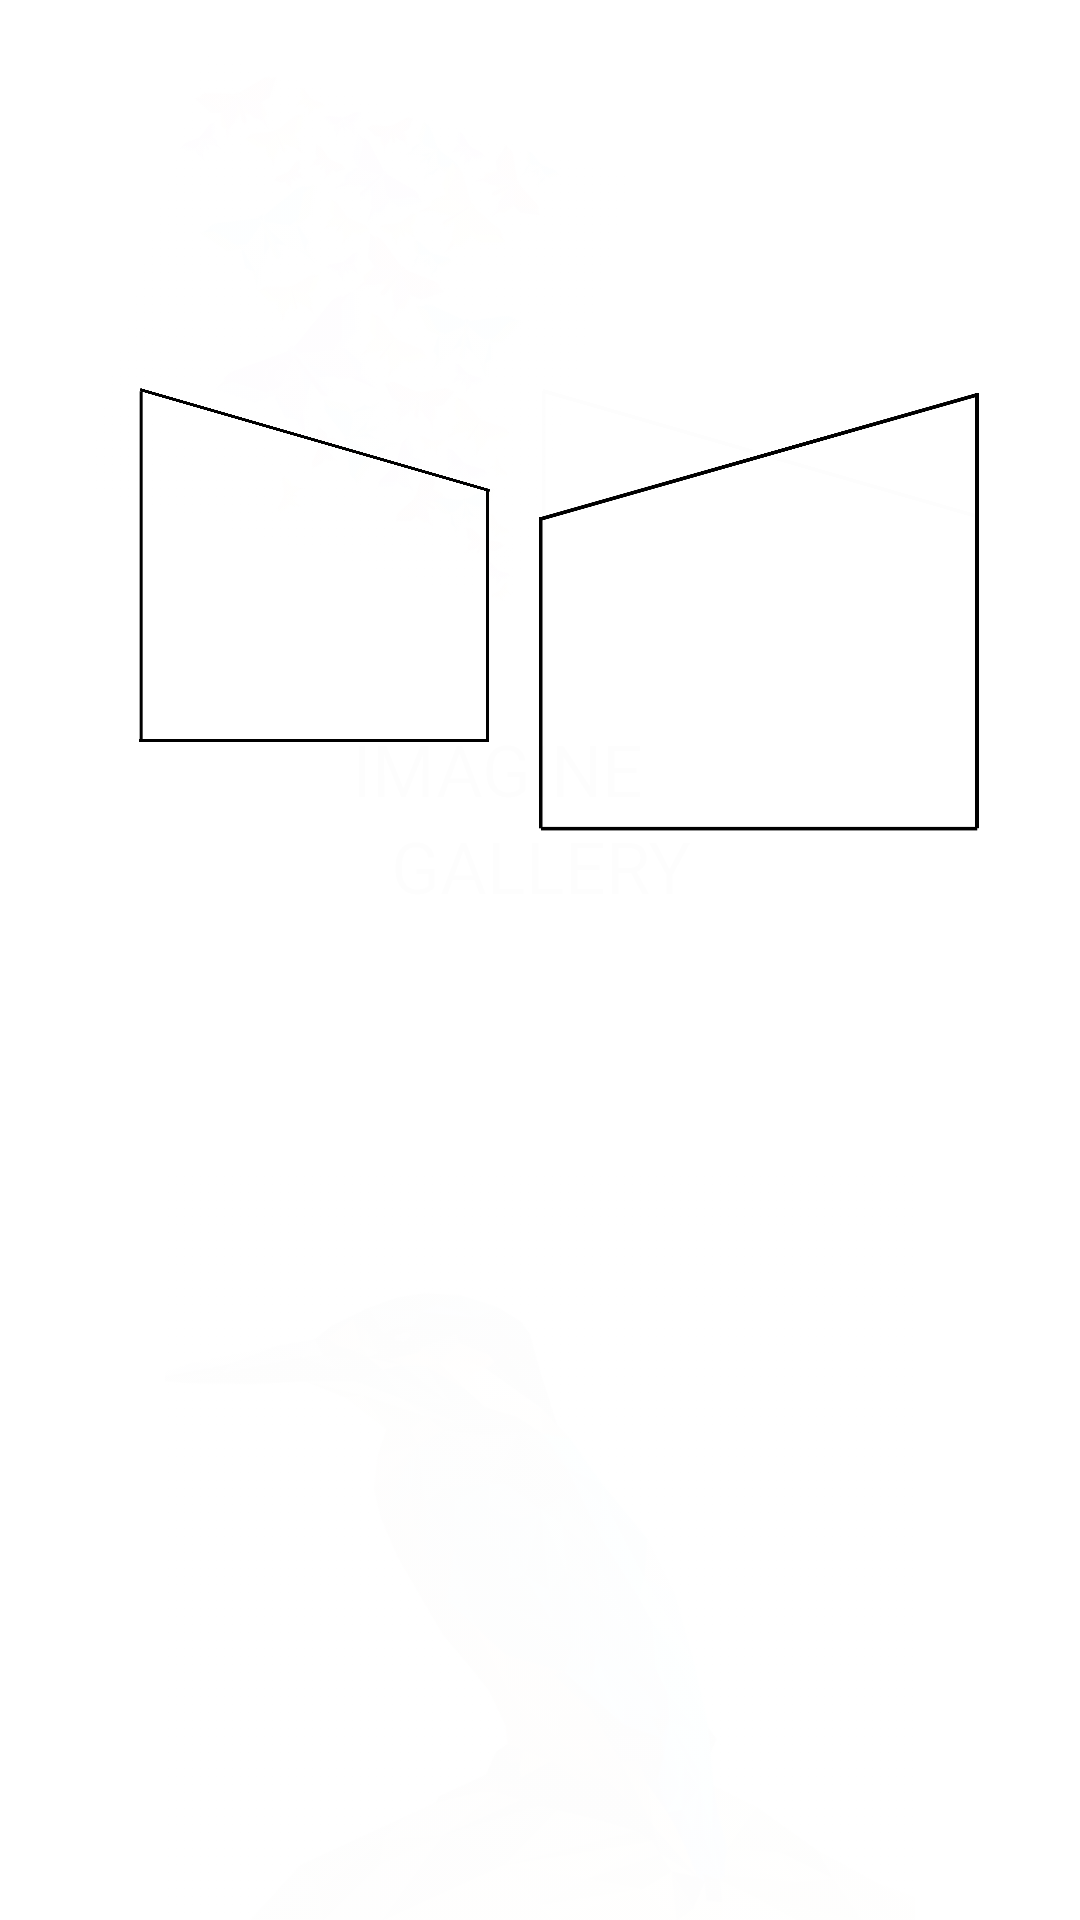

Point at icon controls on the screen. Image size 1080px x 1920px, points as [x,y].
trapeze left: [314,565]
